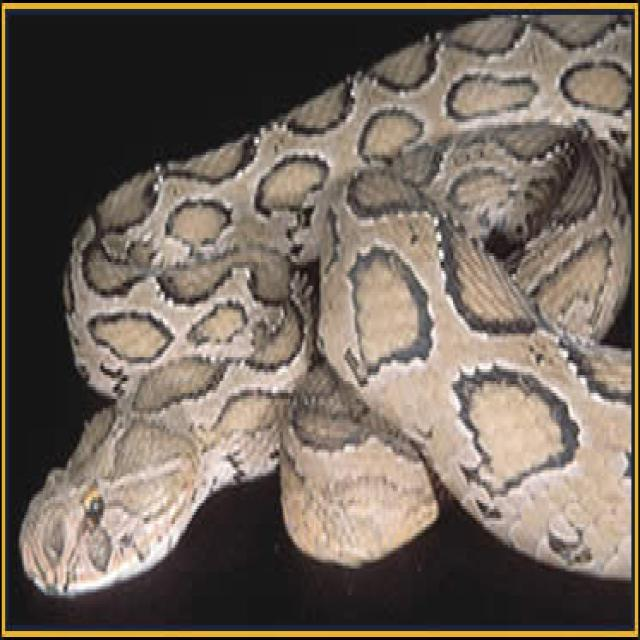Snake: (17, 11, 632, 598)
